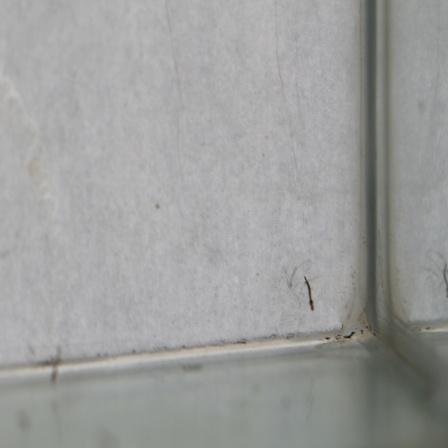Jentik-Nyamuk: (299, 273, 318, 315)
